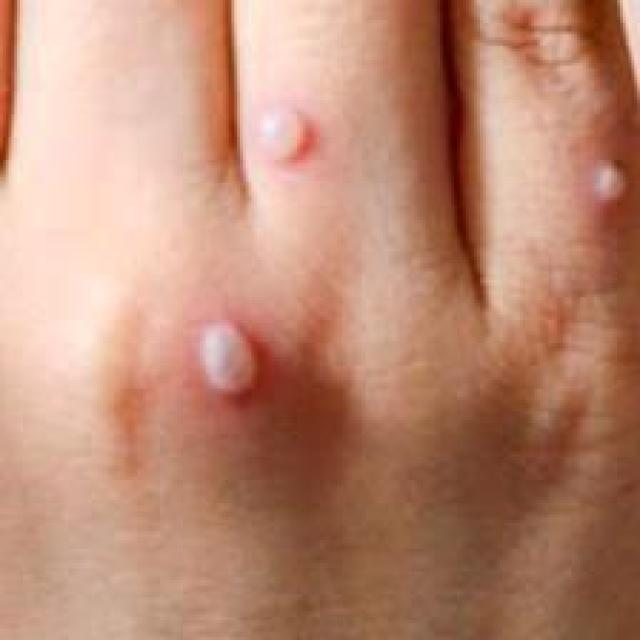others: (16, 27, 640, 557)
